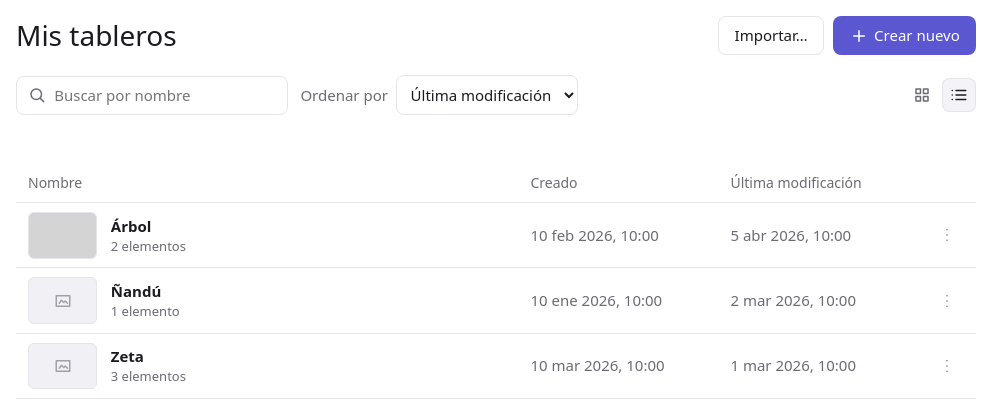
it: rename › also renames by double-clicking the title
expect the heading "Mis tableros" is shown: met, box [16,16,177,55]
expect the link "Ñandú" is shown: met, box [111,281,161,301]
Double-click the link "Zeta" at (127, 356), box [111,346,144,366]
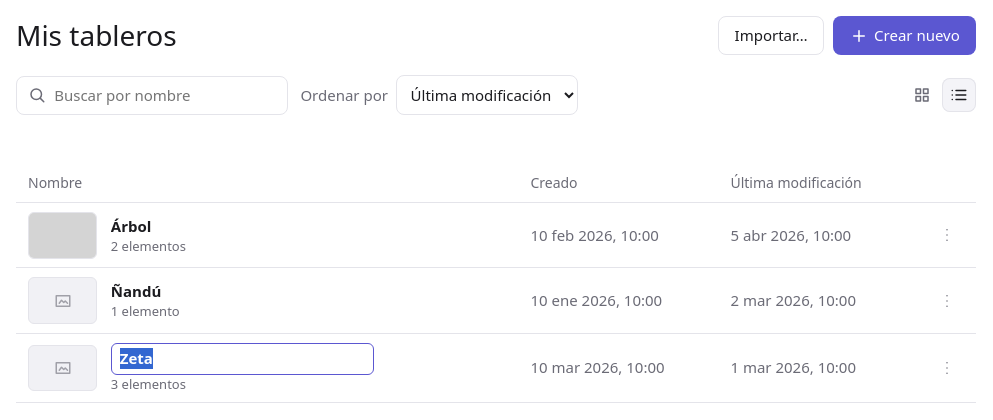
expect the field named "Título del tablero" holds "Zeta": met, box [111,342,374,375]
